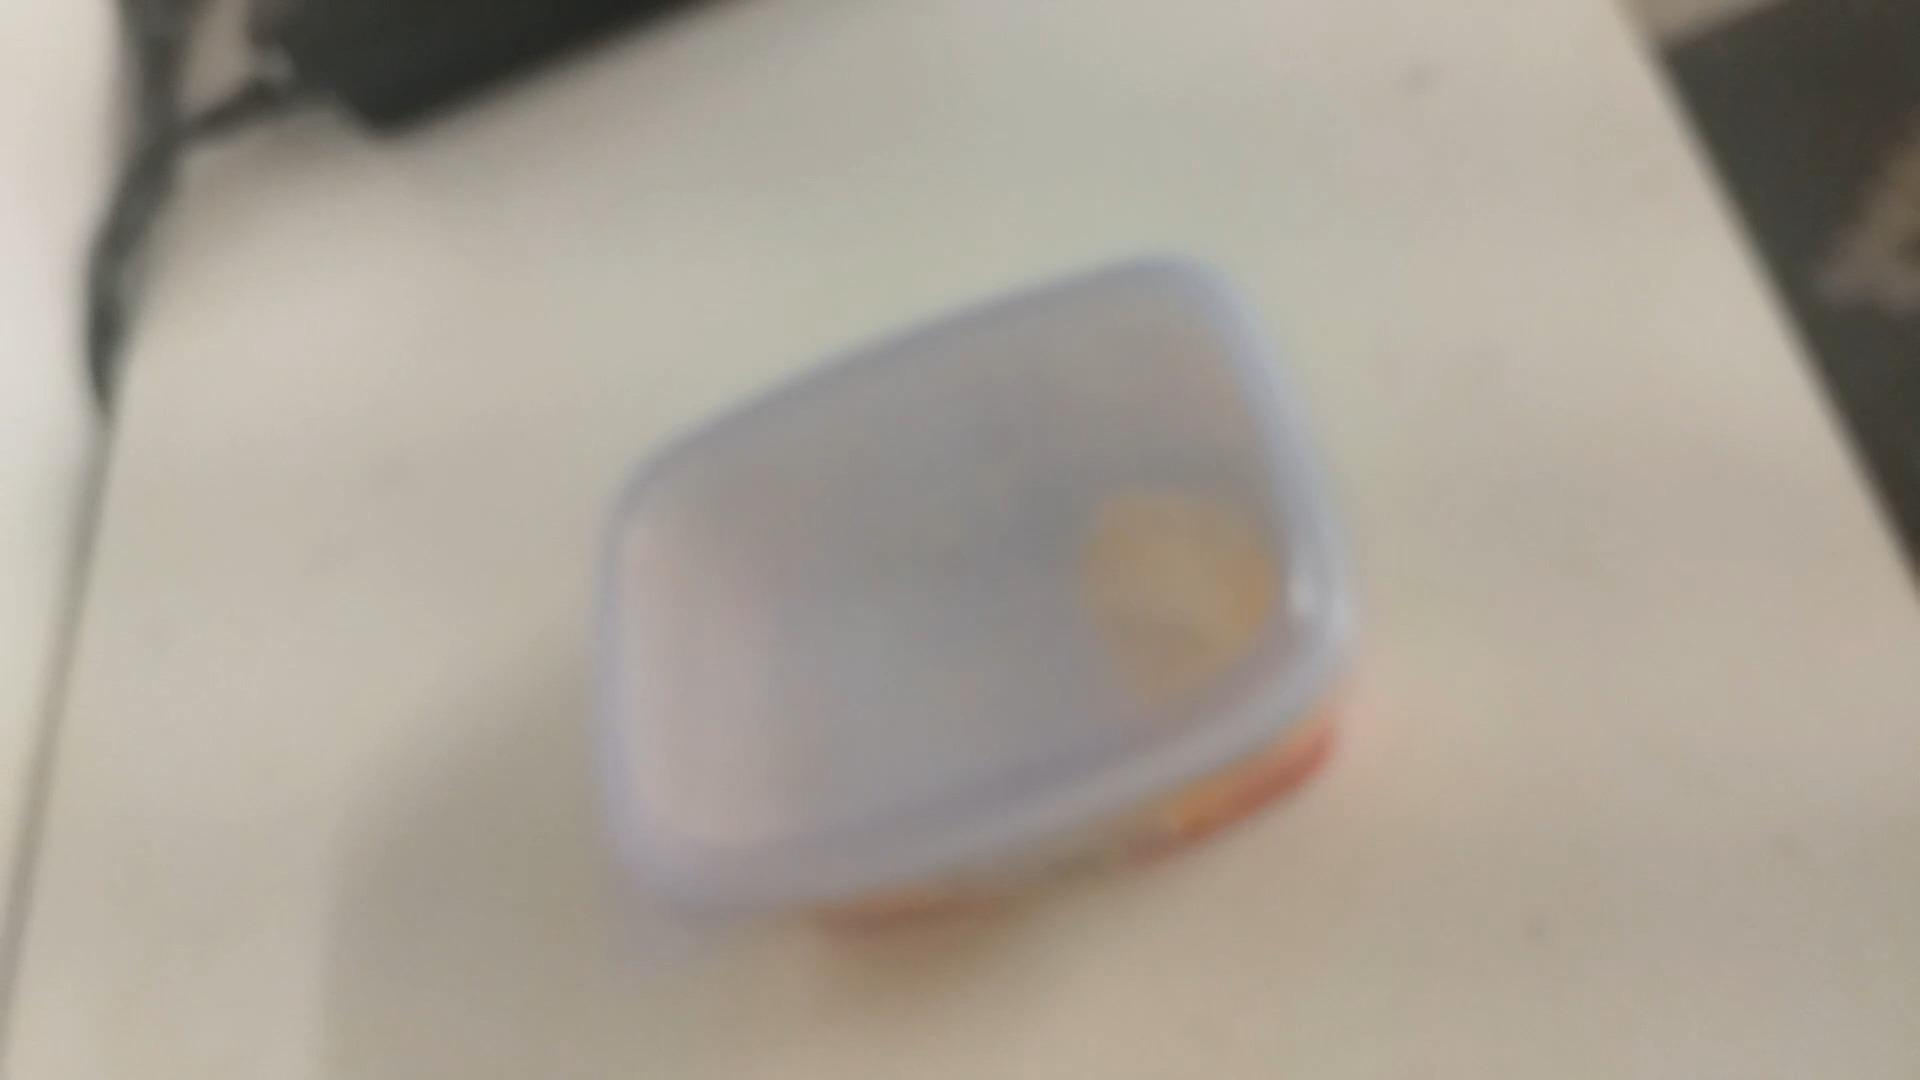butter: (591, 253, 1356, 932)
